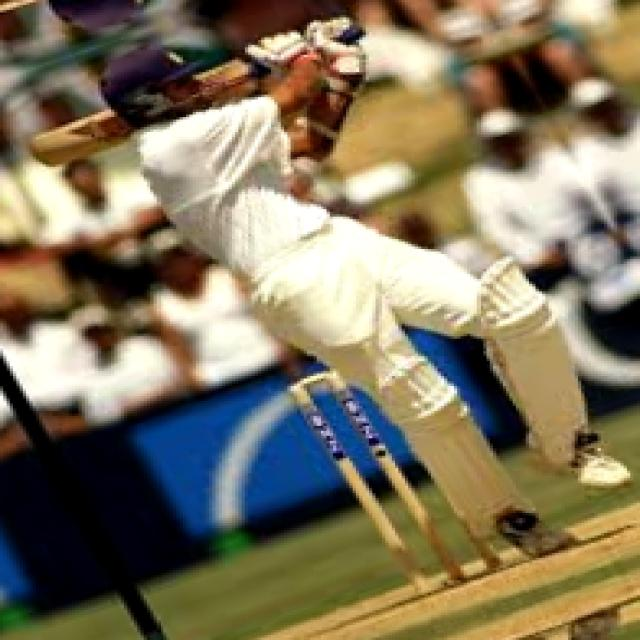toe: (18, 133, 58, 171)
